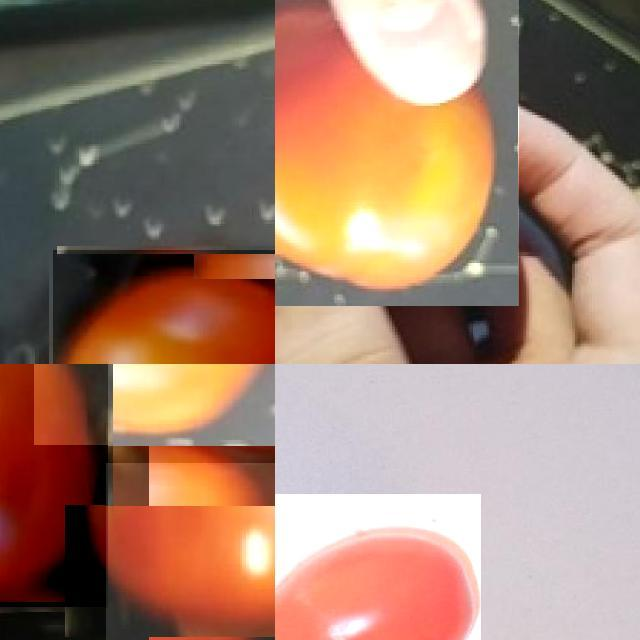Fresh Tomato: (275, 0, 519, 305), (275, 494, 480, 640), (106, 463, 275, 640), (0, 364, 108, 607), (53, 249, 275, 364), (34, 364, 275, 445)
